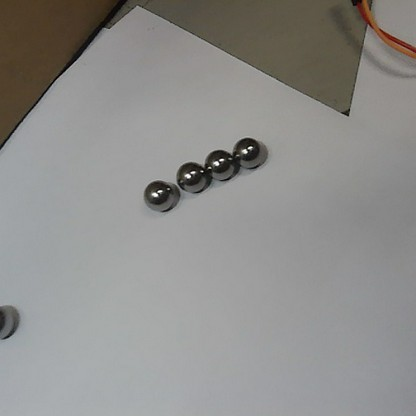ironball: (139, 180, 179, 214), (231, 135, 269, 170), (199, 146, 234, 183), (174, 162, 207, 194), (0, 304, 20, 344)
